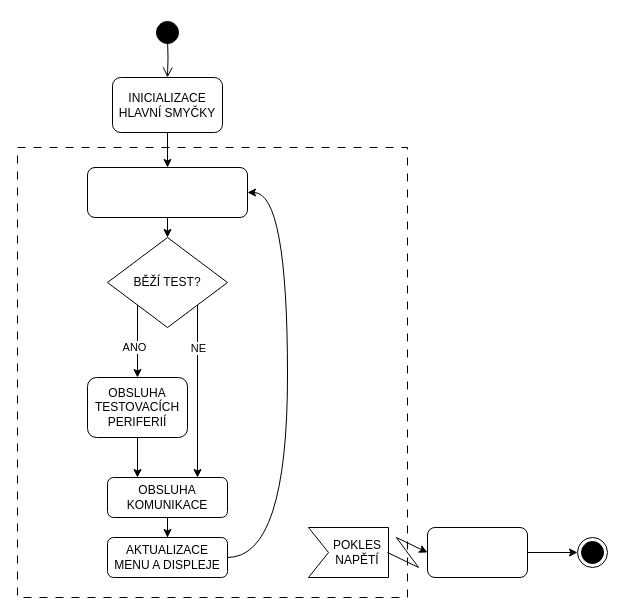
Image size: 625x615. Some labels were removed from this diagram. The shapes that lost their labels are listed below. From the top down, each one's box as (x1, y1, x2, y2) in pixels, then its label:
(86, 166, 248, 218): OBSLUHA UDÁLOSTÍ A LOGIKY TESTU
(426, 526, 528, 578): ULOŽENÍ KRITICKÝCH DAT
